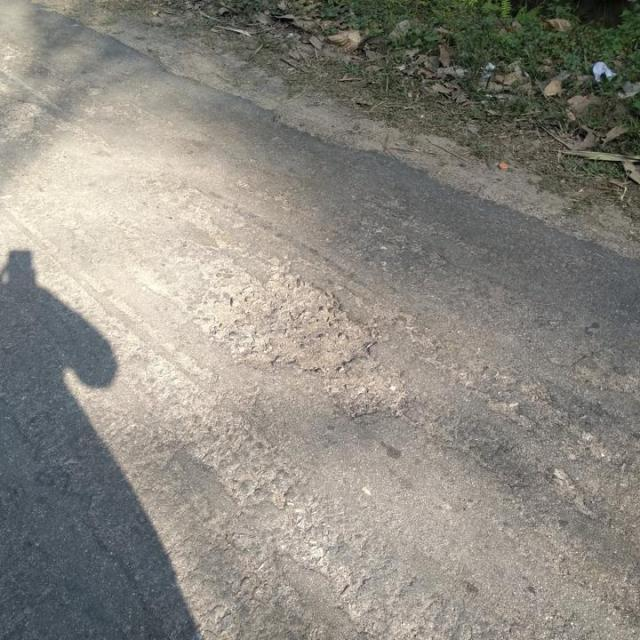buraco: (123, 258, 404, 422), (197, 263, 384, 375), (321, 372, 408, 424)
